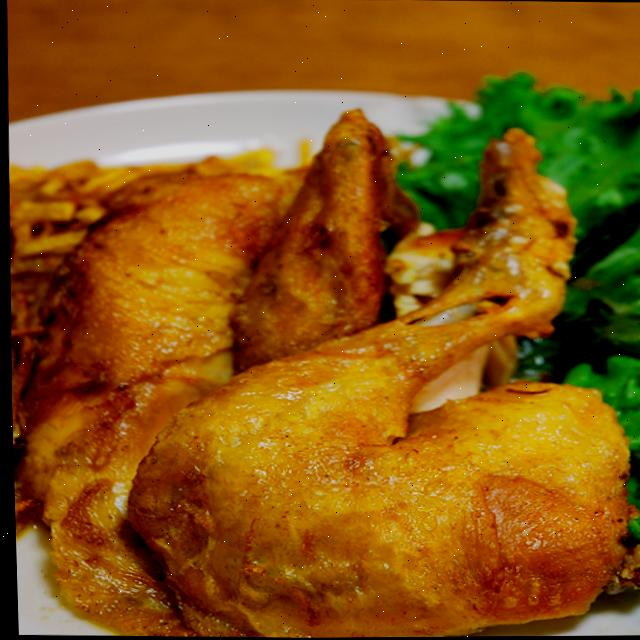鸡肉料理 含炸鸡: (70, 98, 640, 640)
